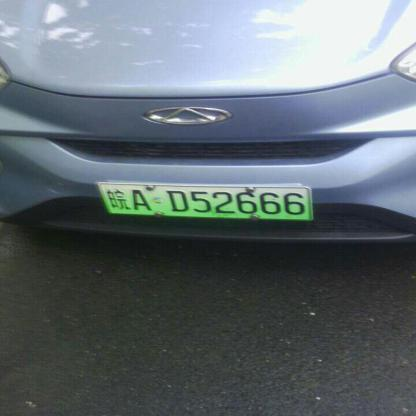lp: (96, 183, 312, 218)
